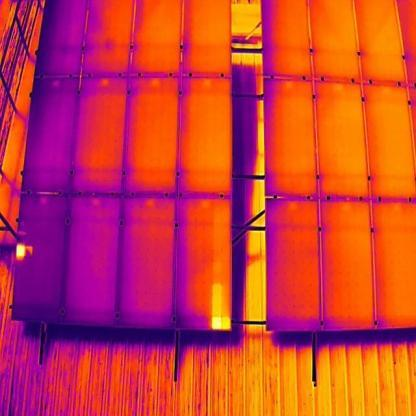anomaly: (207, 281, 234, 331), (13, 241, 36, 262)
